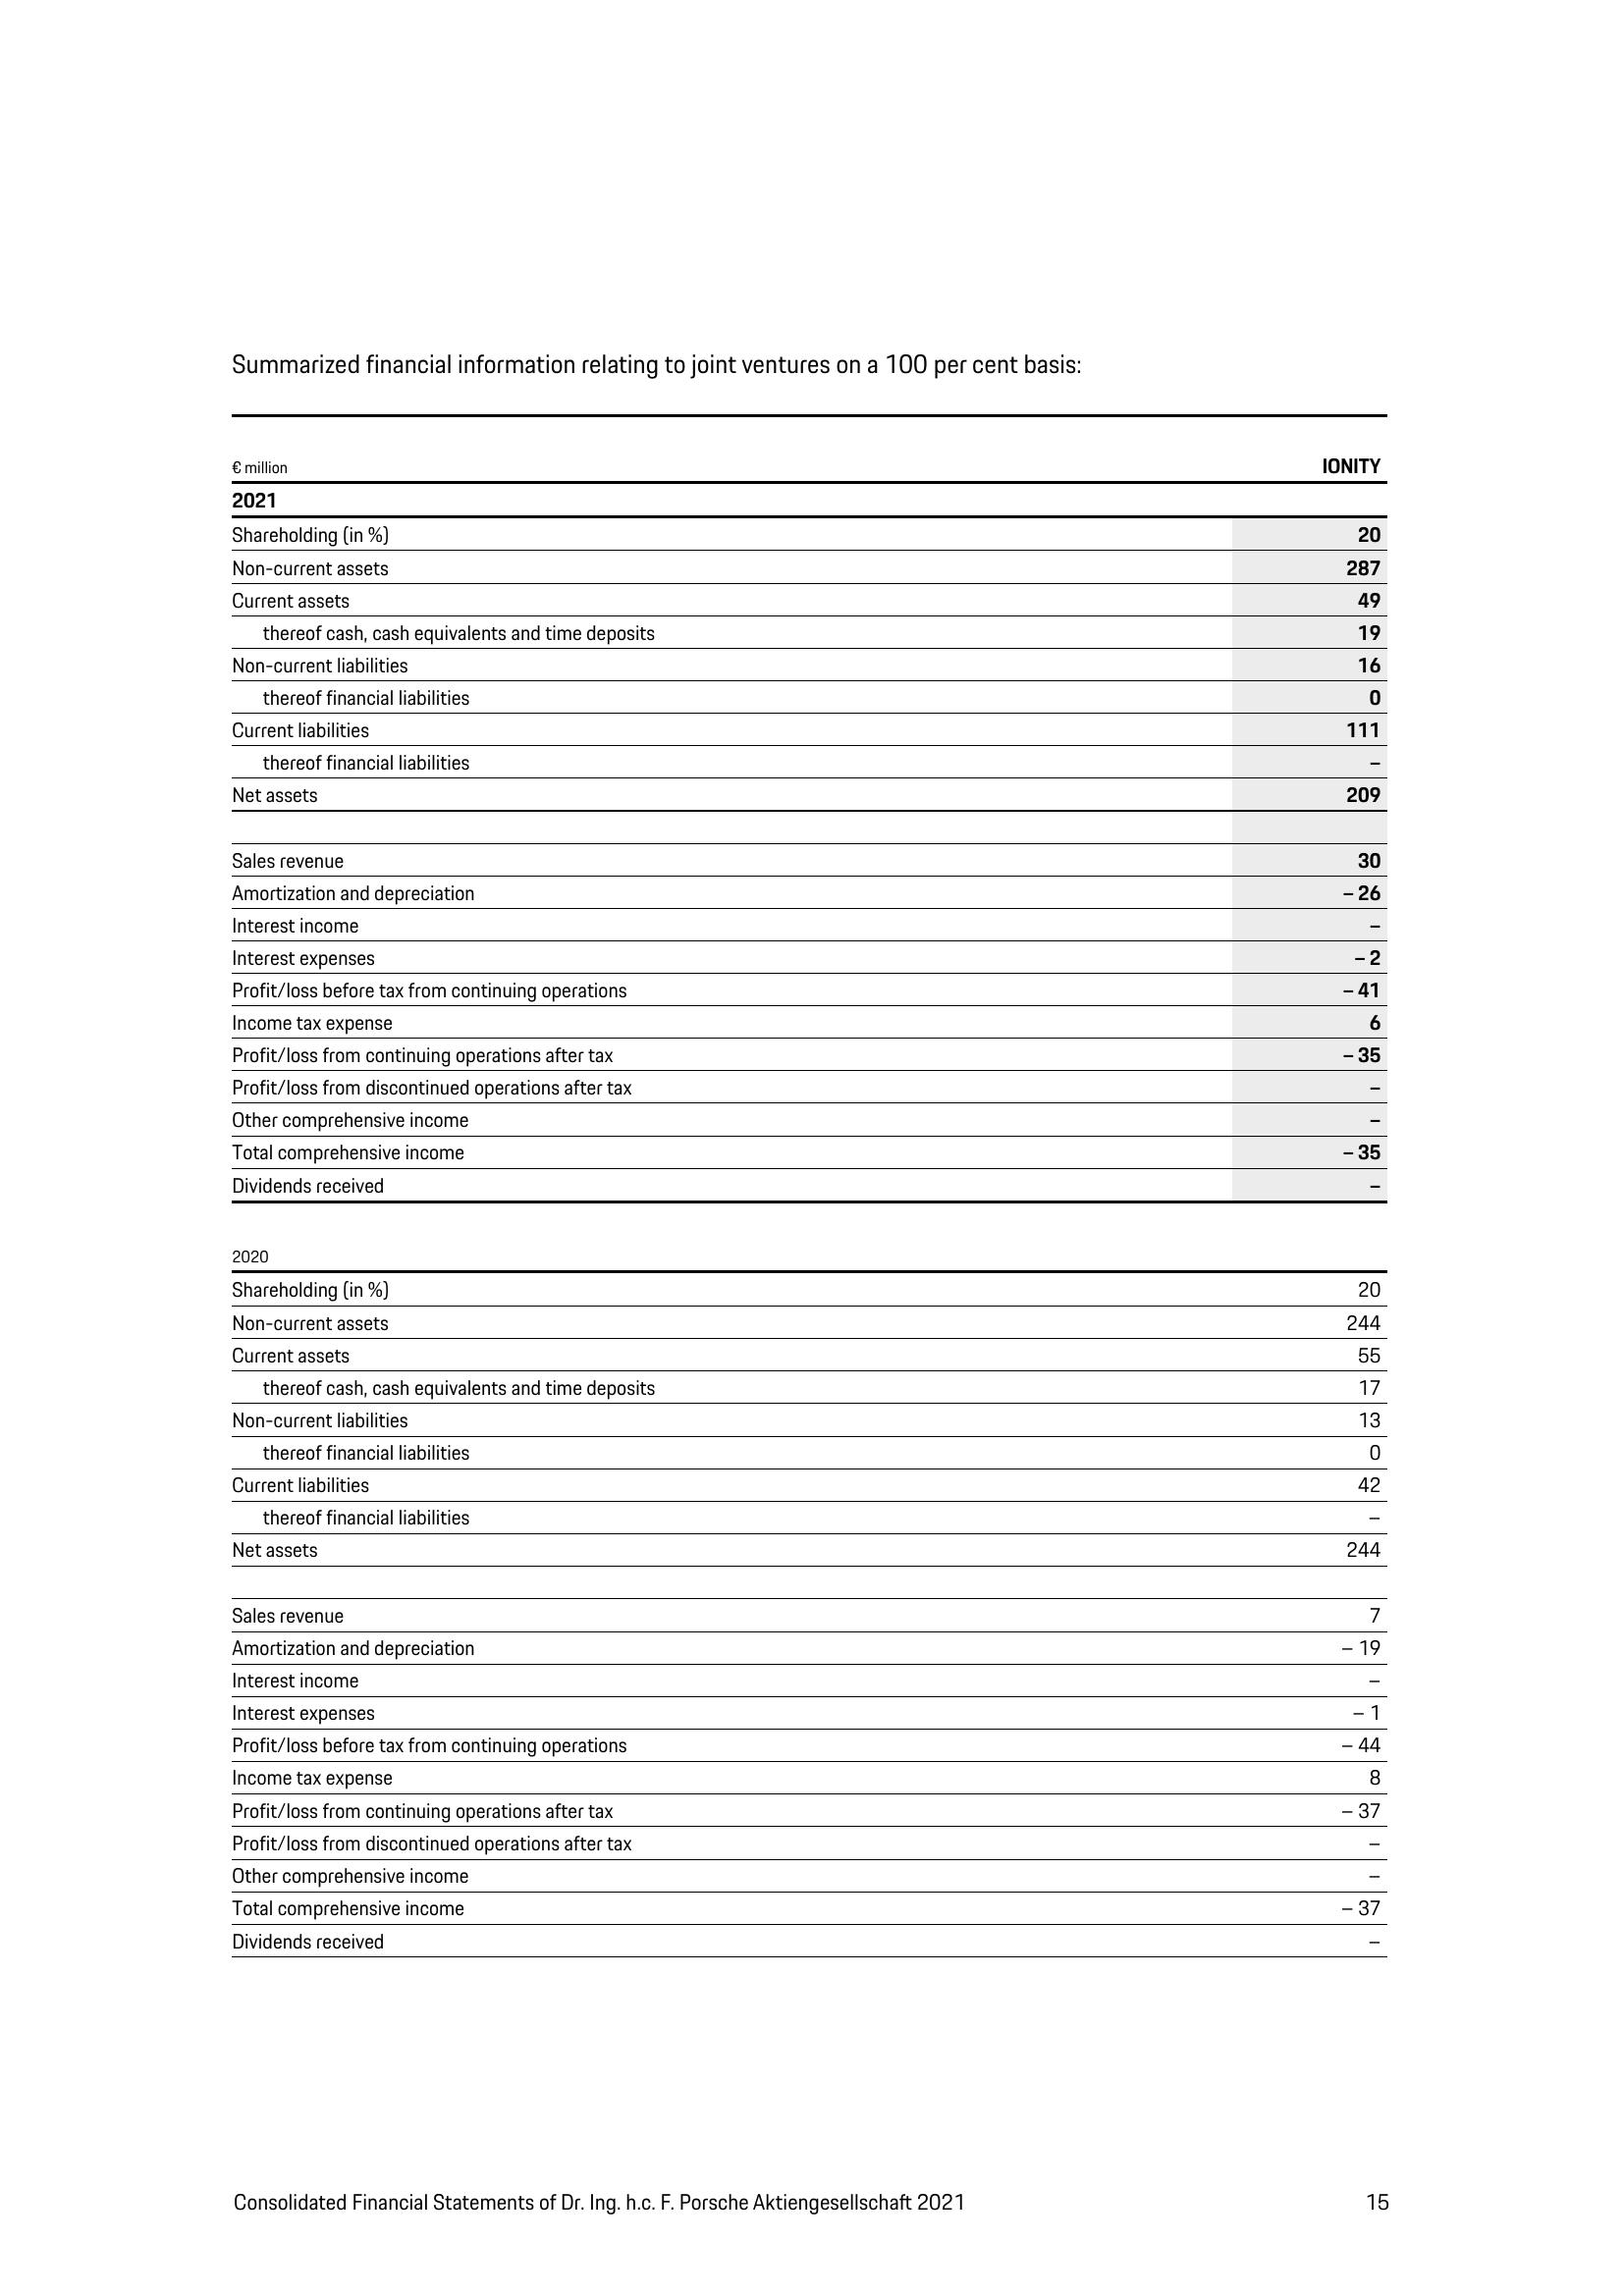Footer: (0, 2140, 1624, 2296)
Header: (0, 0, 1624, 220)
Table: (186, 411, 1417, 1960)
